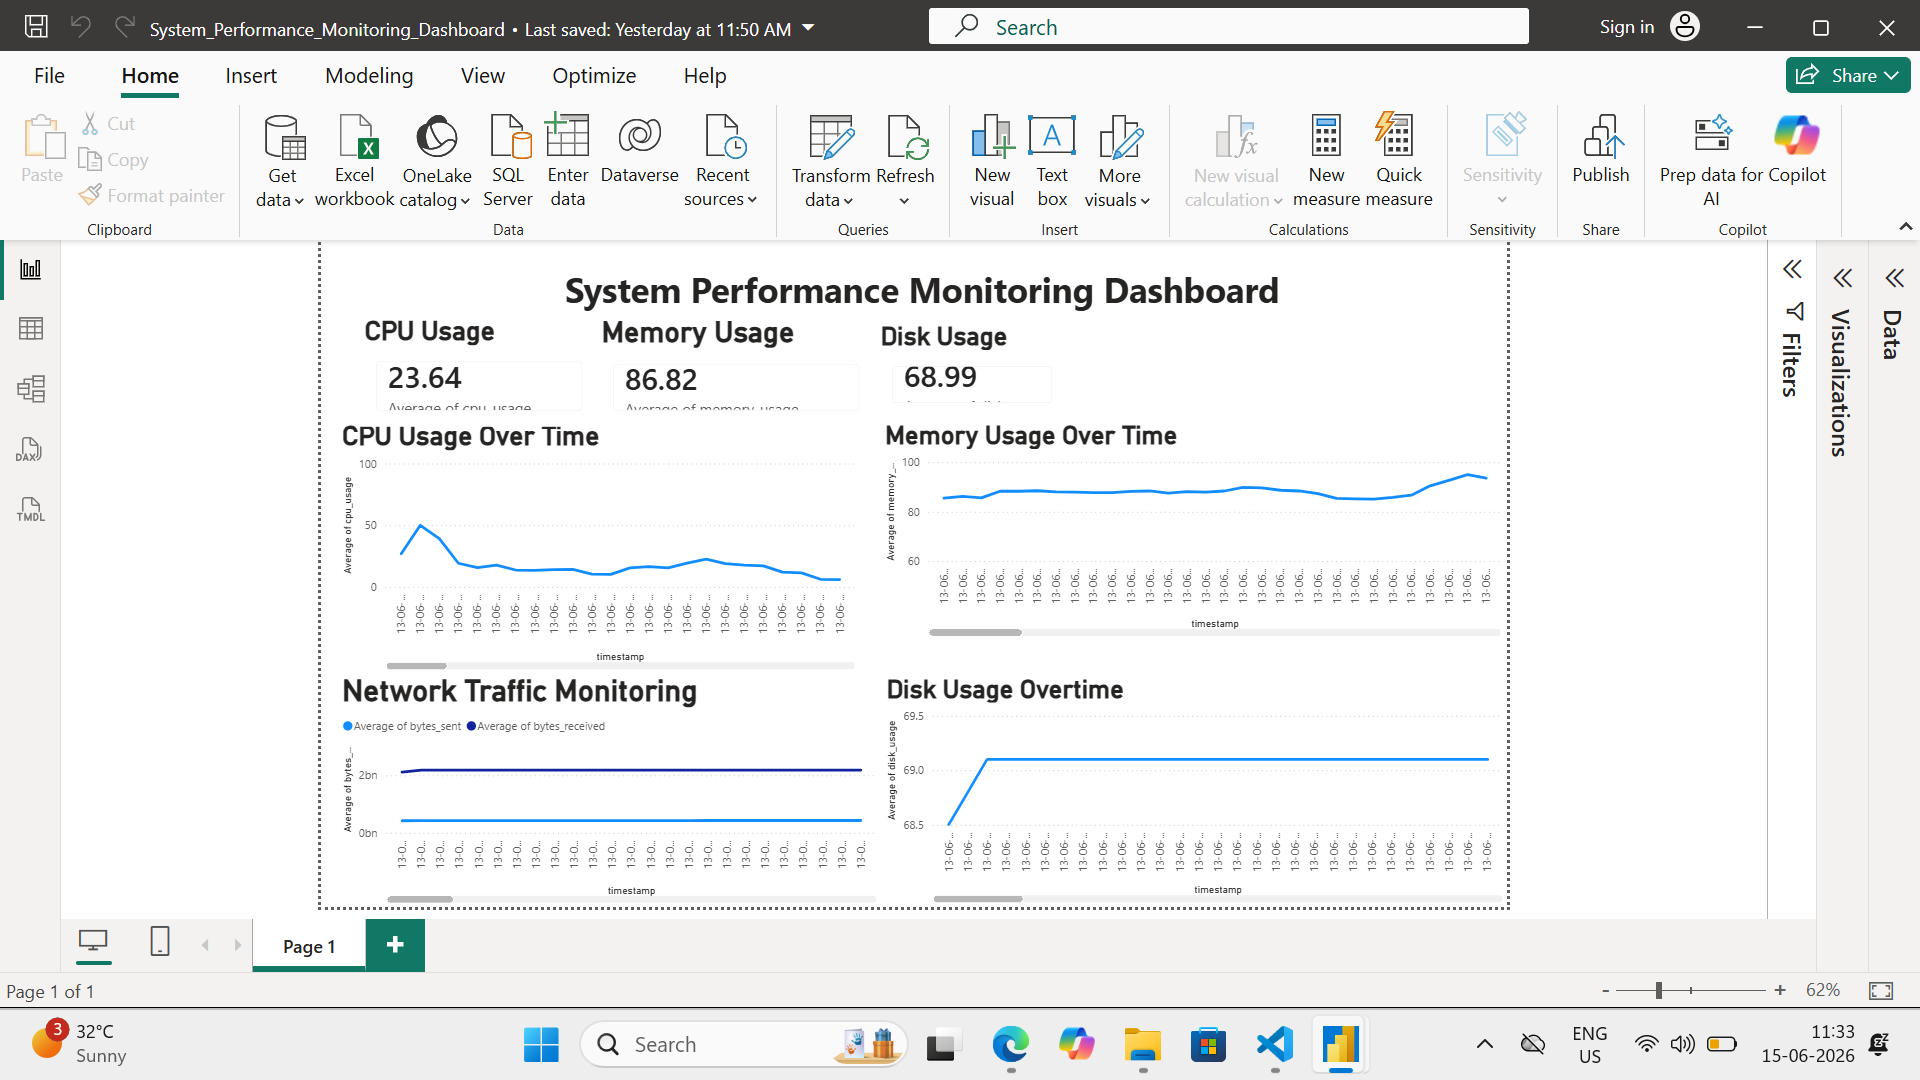

This screenshot's page, from the dashboard's own definition file:
{"tool":"powerbi","page":{"name":"Page 1","canvas":[1280,720],"ordinal":0},"visuals":[{"type":"lineChart","title":"CPU Usage Over Time","fields":{"Category":["system_monitoring system_metrics.timestamp"],"Y":["Avg(system_monitoring system_metrics.cpu_usage)"]},"box":[17,194.6,563.2,274],"z":0},{"type":"textbox","box":[17,22.7,1262.4,79.4],"z":1000},{"type":"lineChart","title":"Memory Usage Over Time","fields":{"Category":["system_monitoring system_metrics.timestamp"],"Y":["Avg(system_monitoring system_metrics.memory_usage)"]},"box":[604.7,194.6,674.7,238.1],"z":2000},{"type":"lineChart","title":"Network Traffic Monitoring","fields":{"Category":["system_monitoring system_metrics.timestamp"],"Y":["Avg(system_monitoring system_metrics.bytes_sent)","Avg(system_monitoring system_metrics.bytes_received)"]},"box":[17.8,468,586.2,252.6],"z":3000},{"type":"cardVisual","title":"CPU Usage","fields":{"Data":["Avg(system_monitoring system_metrics.cpu_usage)"]},"box":[41.6,81.3,257,120.9],"z":4000},{"type":"cardVisual","title":"Memory Usage","fields":{"Data":["Avg(system_monitoring system_metrics.memory_usage)"]},"box":[298.6,81.3,300.5,120.9],"z":5000},{"type":"cardVisual","title":"Disk Usage","fields":{"Data":["Avg(system_monitoring system_metrics.disk_usage)"]},"box":[599.1,86.9,207.9,105.8],"z":6000},{"type":"lineChart","title":"Disk Usage Overtime","fields":{"Category":["system_monitoring system_metrics.timestamp"],"Y":["Avg(system_monitoring system_metrics.disk_usage)"]},"box":[605,468,675,252],"z":7000}]}

Visuals, with their boxes on the page's 1280x720 design canvas (x1, y1, x2, y2). These are canvas units, not pixel positions in the 1920x1080 screenshot, which may show the page scaled, cropped or inside an application window:
"CPU Usage Over Time" lineChart: pyautogui.locateOnScreen(17, 195, 580, 469)
textbox: pyautogui.locateOnScreen(17, 23, 1279, 102)
"Memory Usage Over Time" lineChart: pyautogui.locateOnScreen(605, 195, 1279, 433)
"Network Traffic Monitoring" lineChart: pyautogui.locateOnScreen(18, 468, 604, 721)
"CPU Usage" cardVisual: pyautogui.locateOnScreen(42, 81, 299, 202)
"Memory Usage" cardVisual: pyautogui.locateOnScreen(299, 81, 599, 202)
"Disk Usage" cardVisual: pyautogui.locateOnScreen(599, 87, 807, 193)
"Disk Usage Overtime" lineChart: pyautogui.locateOnScreen(605, 468, 1280, 720)
